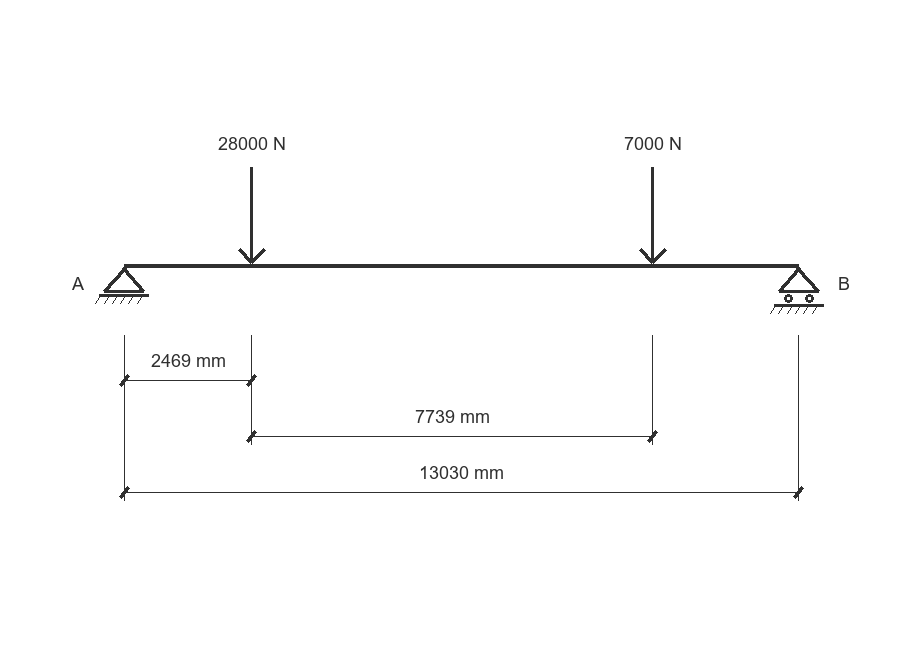pin_support: (95, 267, 149, 304)
point_load: (238, 167, 266, 264), (639, 167, 667, 264)
roller_support: (770, 267, 824, 314)
